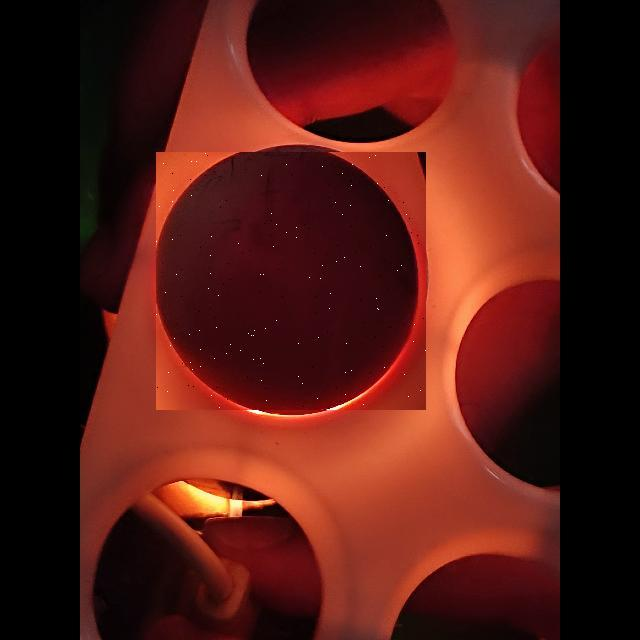Fertile: (156, 152, 426, 410)
